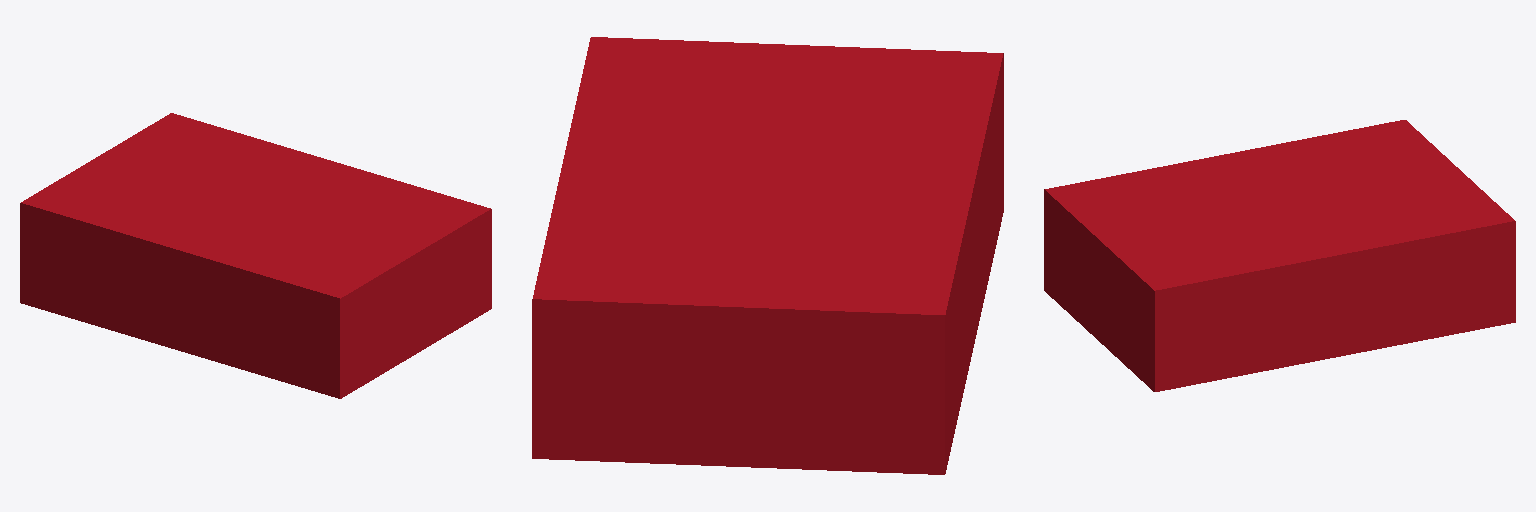
The robot description file, URDF, robot "Interference":
<?xml version="1.0"?>
<robot name="Interference">
  <link name="baseLink">
    <inertial>
      <origin xyz="0.0 0.0 0.0" rpy="0.0 0.0 0.0"/>
      <inertia ixx="0.0" ixy="0.0" ixz="0.0" iyy="0.0" iyz="0.0" izz="0.0"/>
      <mass value="0"/>
    </inertial>
    <visual>
      <origin xyz="0.0 0.0 0.0" rpy="0.0 0.0 0.4301169389029129"/>
      <geometry>
        <box size="0.023529757105917655 0.03537327154839576 0.01"/>
      </geometry>
      <material name="color">
        <color rgba="0.7373410160975622 0.11906298138783544 0.1780519324306168 1.0"/>
      </material>
    </visual>
  </link>
</robot>

--- Facts derived from the render (not from the file) ---
The picture shows the robot from 3 angles, left to right: view 1: azimuth 30°, elevation 25°; view 2: azimuth 150°, elevation 25°; view 3: azimuth 270°, elevation 25°; orthographic projection.
Model Interference with 1 links and 0 joints (none), rooted at baseLink, posed every joint at zero.
Visible links, largest first — view 1: baseLink; view 2: baseLink; view 3: baseLink.
Boxes of the visible links, box(x1,y1,x2,y2) form: baseLink: box(20, 113, 491, 398); baseLink: box(532, 37, 1003, 474); baseLink: box(1044, 120, 1515, 391).
Size in the robot's own frame: 0.0361 by 0.042 by 0.01 metres.
Geometry: primitives only (box / cylinder / sphere), no mesh files.